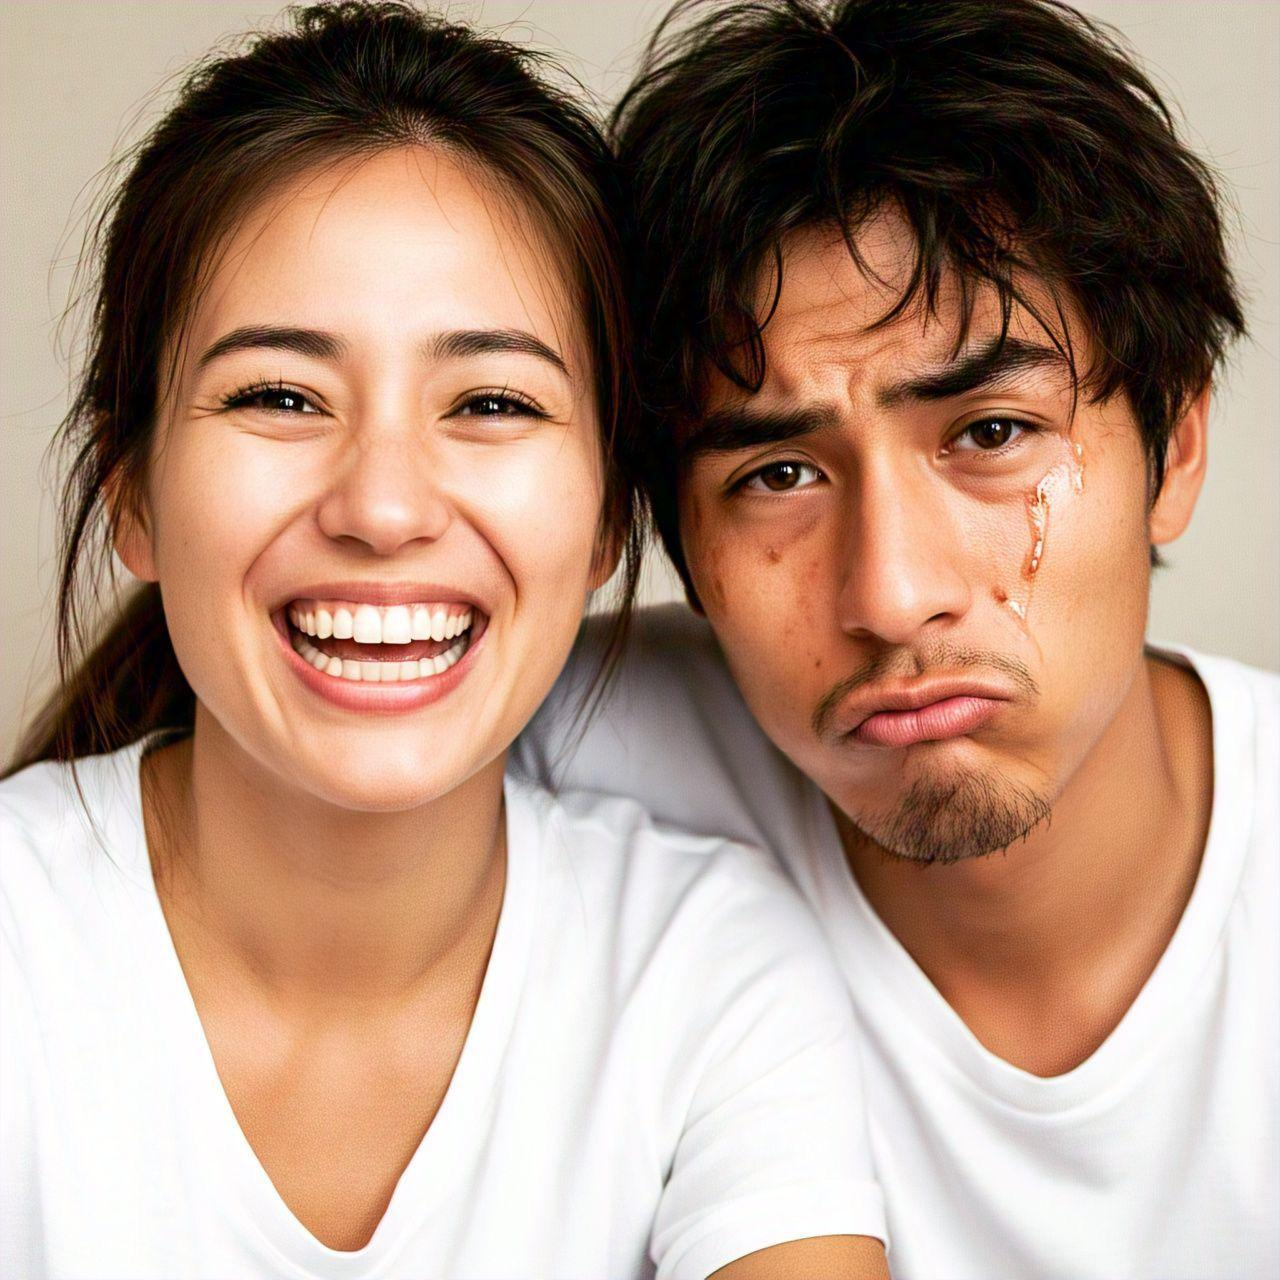feliz: (134, 66, 626, 813)
triste: (651, 186, 1162, 850)
